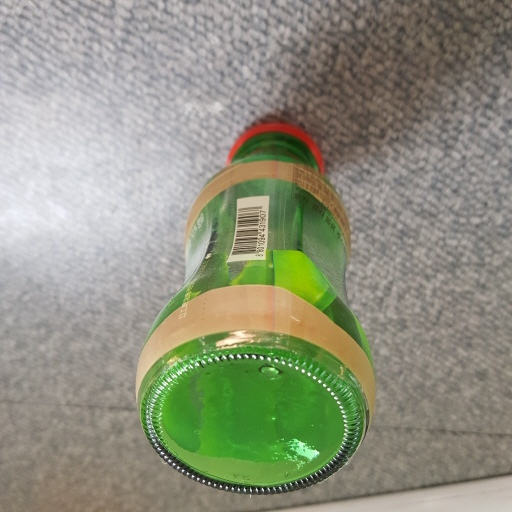Glass_4: (132, 118, 382, 489)
